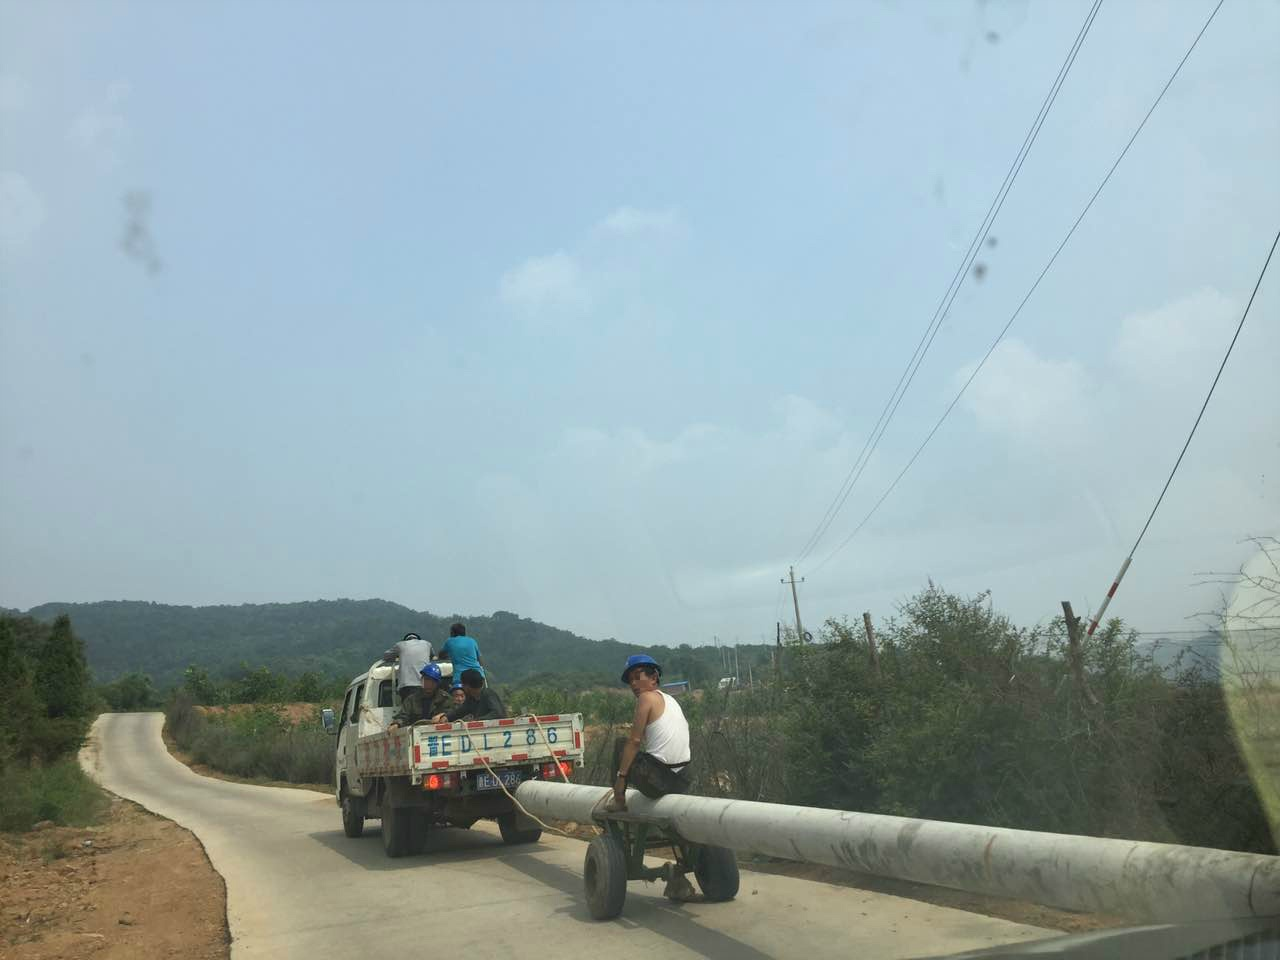blue: (621, 652, 660, 697), (419, 663, 441, 694), (447, 683, 464, 704)
none: (459, 668, 484, 698), (447, 620, 467, 640)
